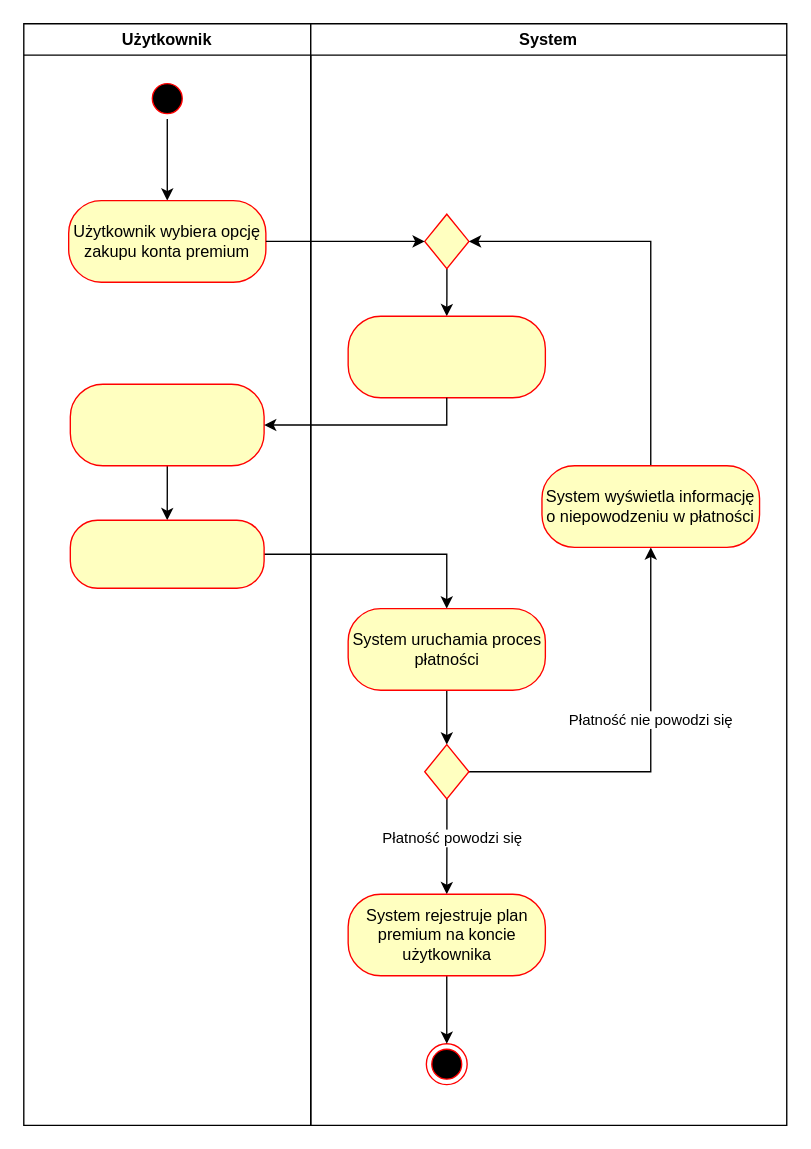
This 811x1149 diagram has some shape labels left out. Each missing label, with the centre of its shape:
System wyświetla plany premium: (x=446, y=356)
Użytkownik potwierdza zakup konta premium: (x=166, y=553)
Użytkownik wybiera prefereowany plan premium: (x=166, y=424)
